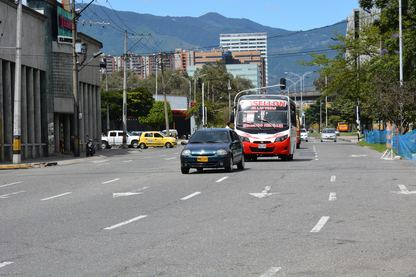bus: (232, 94, 296, 159), (338, 120, 348, 131)
car: (177, 126, 247, 175), (138, 131, 178, 147), (318, 127, 338, 142)
